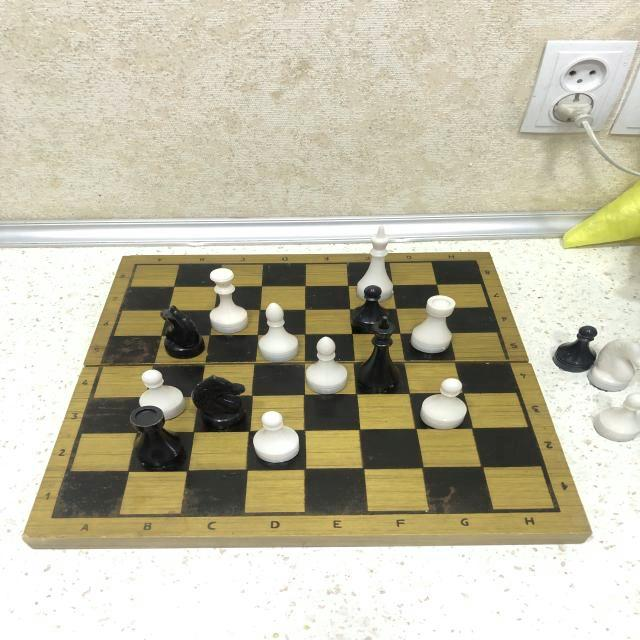chess-table-corners: (37, 502, 76, 530), (534, 493, 576, 519), (124, 258, 150, 274), (462, 254, 486, 270)
